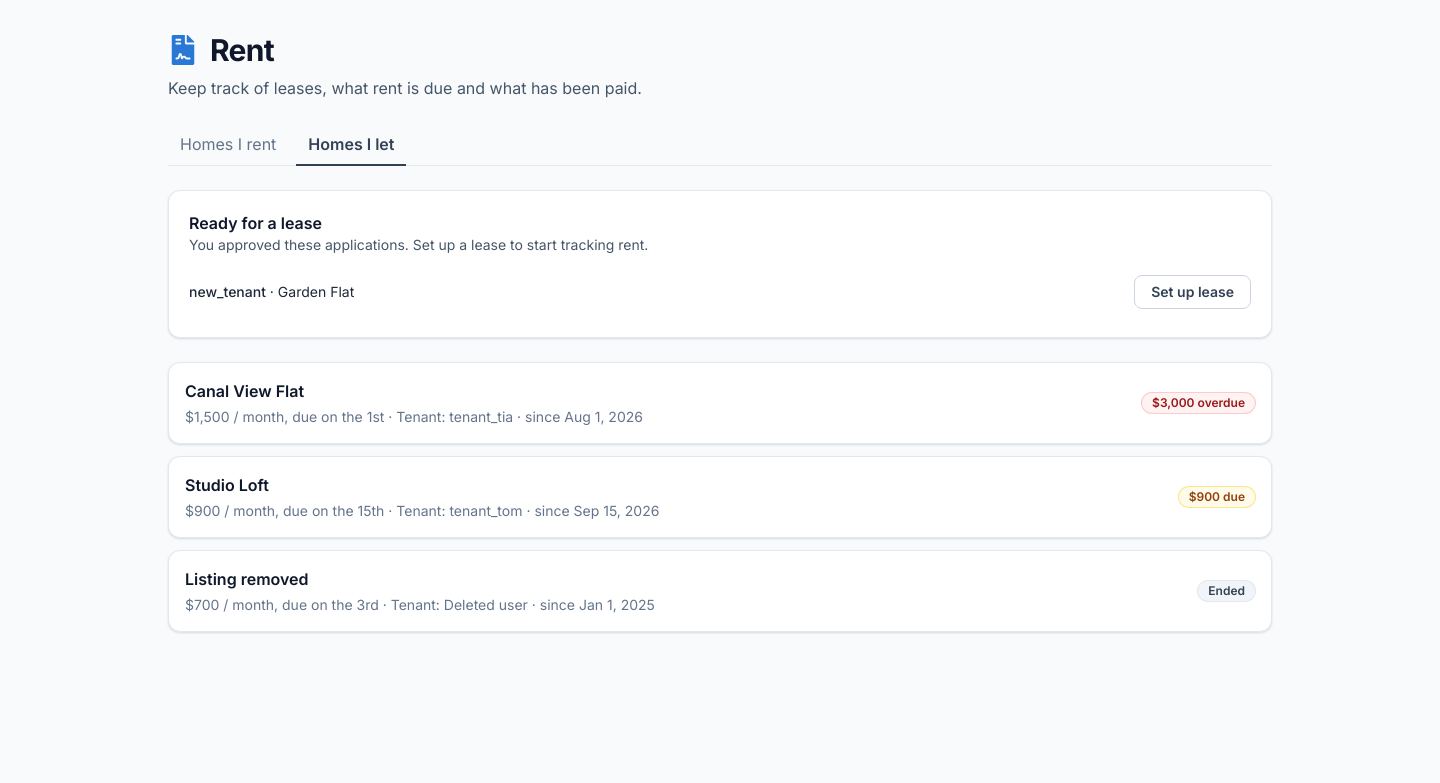
Test: Rent page › shows why a lease could not be created
Click the button "Set up lease" at (1193, 292), box x1=1134 y1=275 x2=1251 y2=309
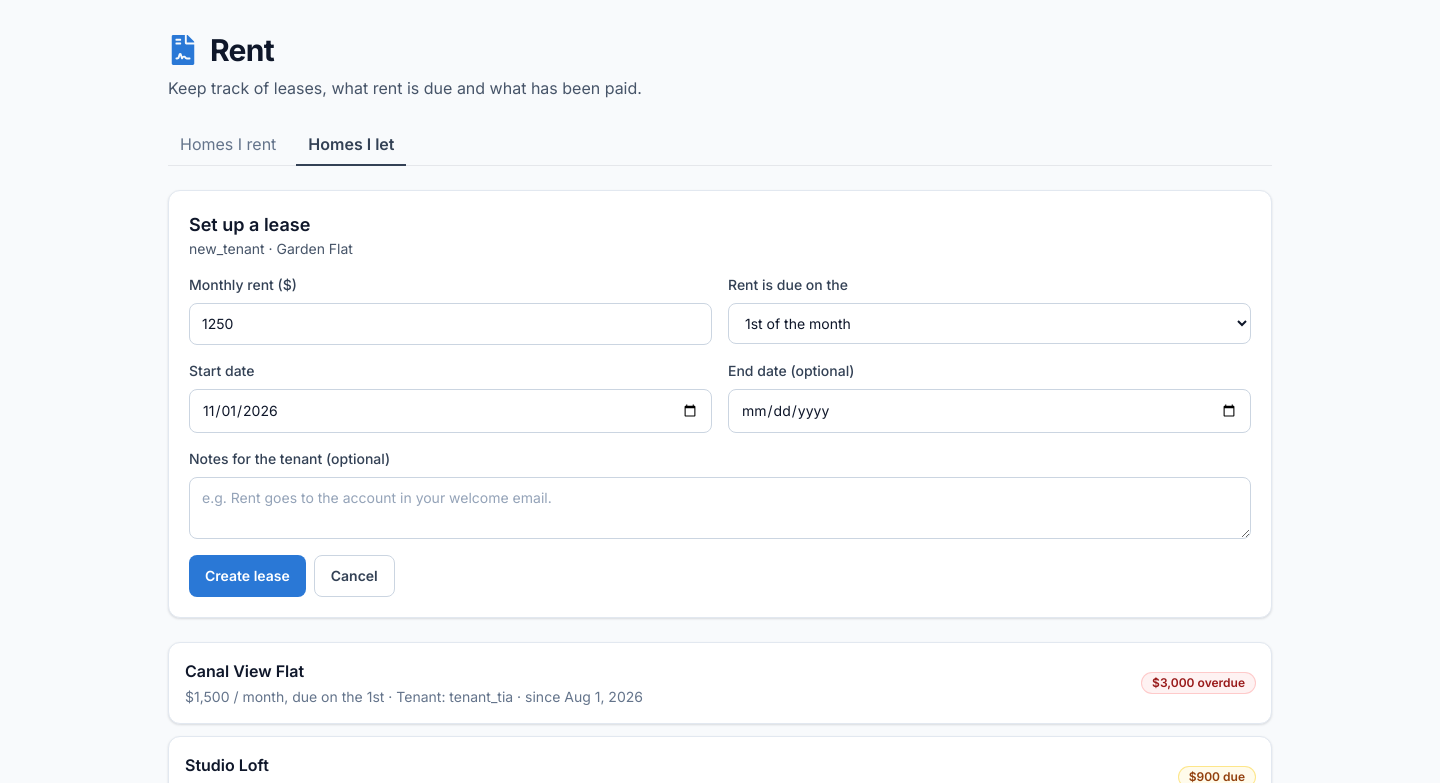
Click the button "Create lease" at (247, 576), box x1=189 y1=555 x2=306 y2=597
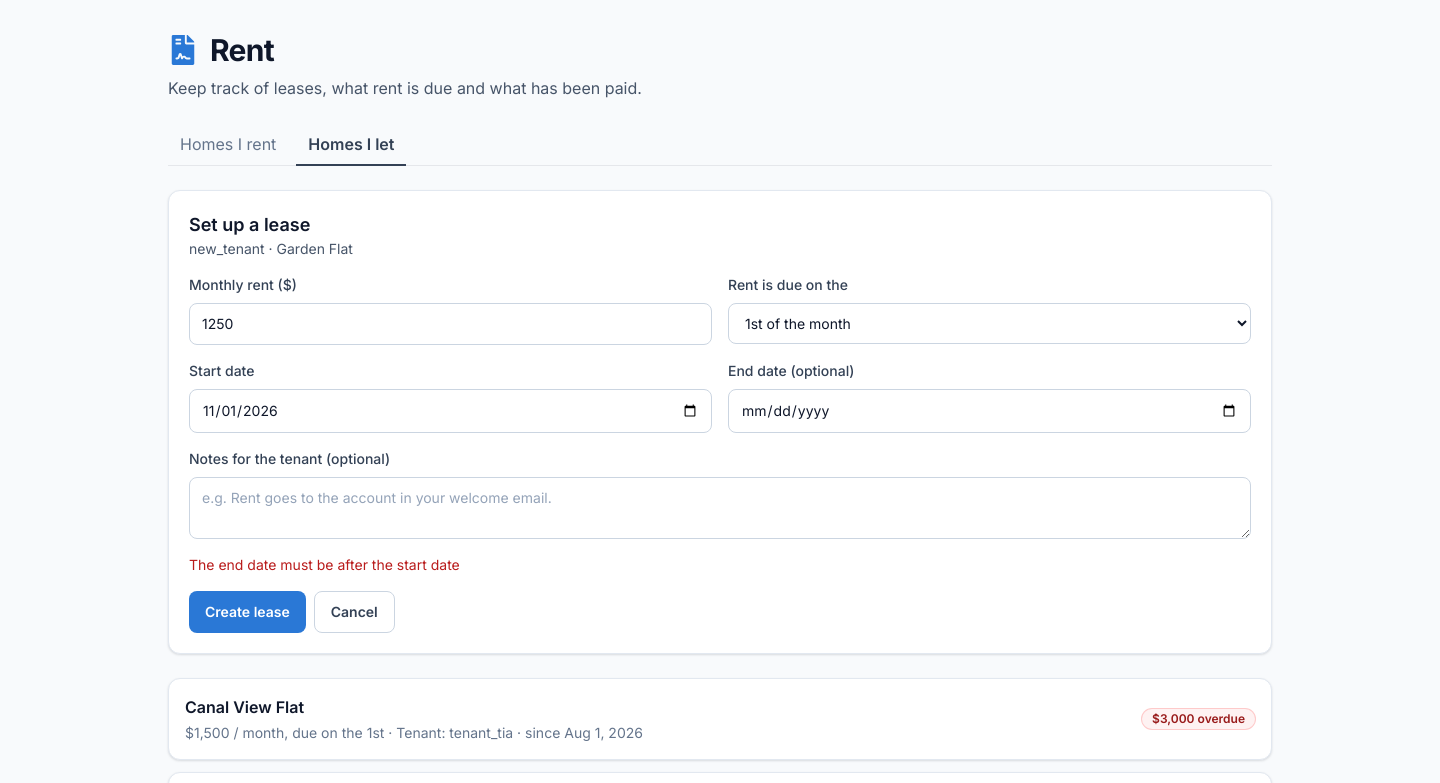
Expected: the message reads "The end date must be after the start date", x1=189 y1=556 x2=460 y2=573
